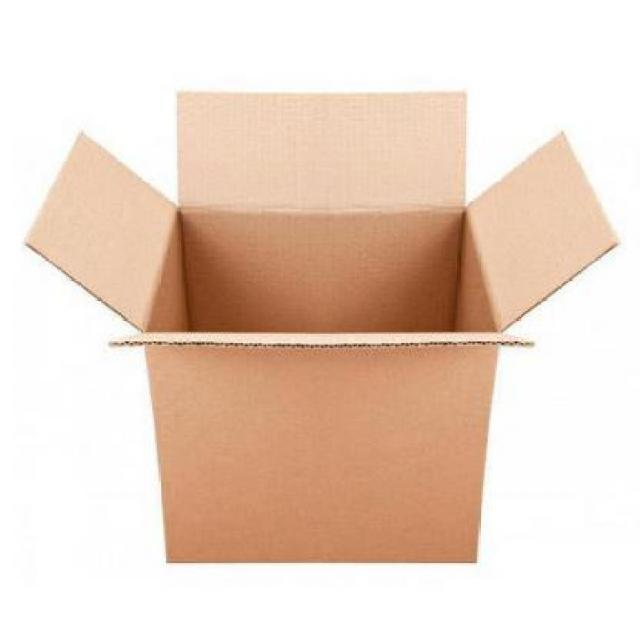box: (24, 94, 600, 568)
